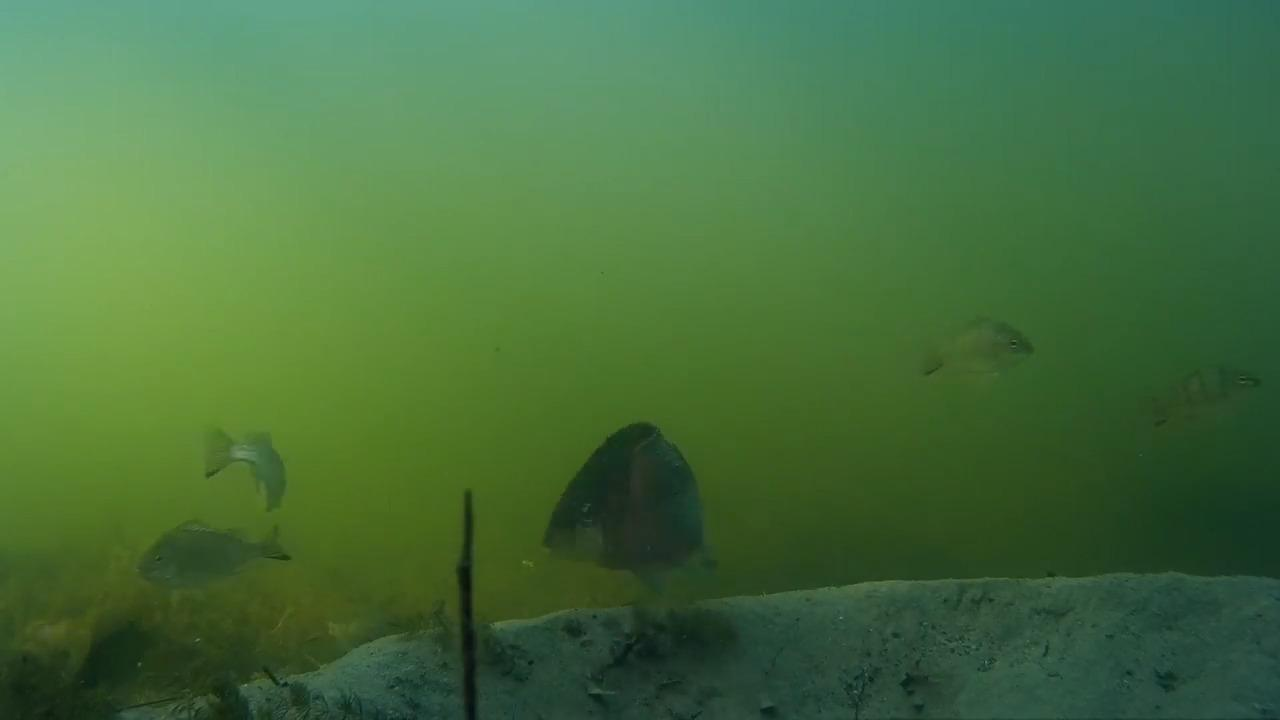Tilapia: (542, 419, 710, 613), (122, 518, 306, 595), (1145, 352, 1262, 440), (187, 428, 306, 514), (912, 314, 1040, 385)
